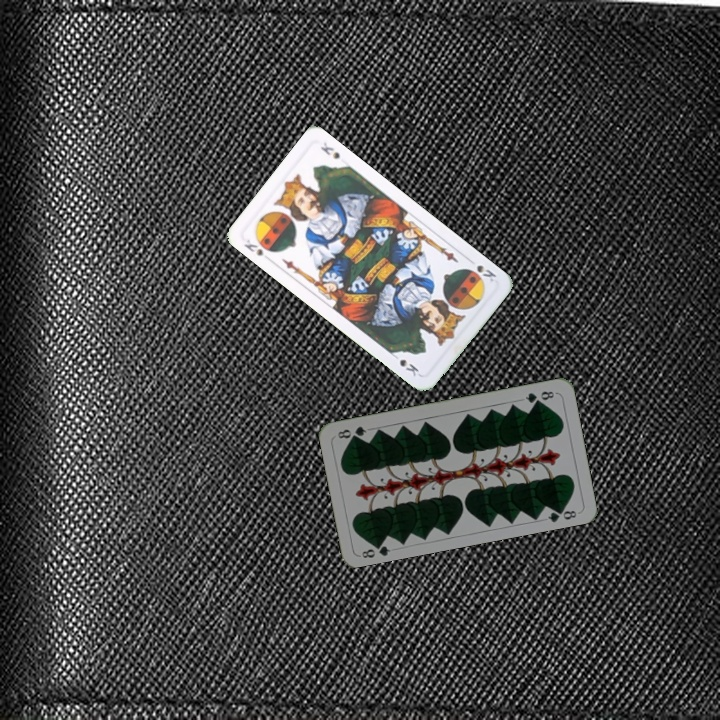G8: (358, 538, 393, 561), (521, 387, 557, 406)
SK: (462, 261, 499, 284), (240, 233, 266, 259)
